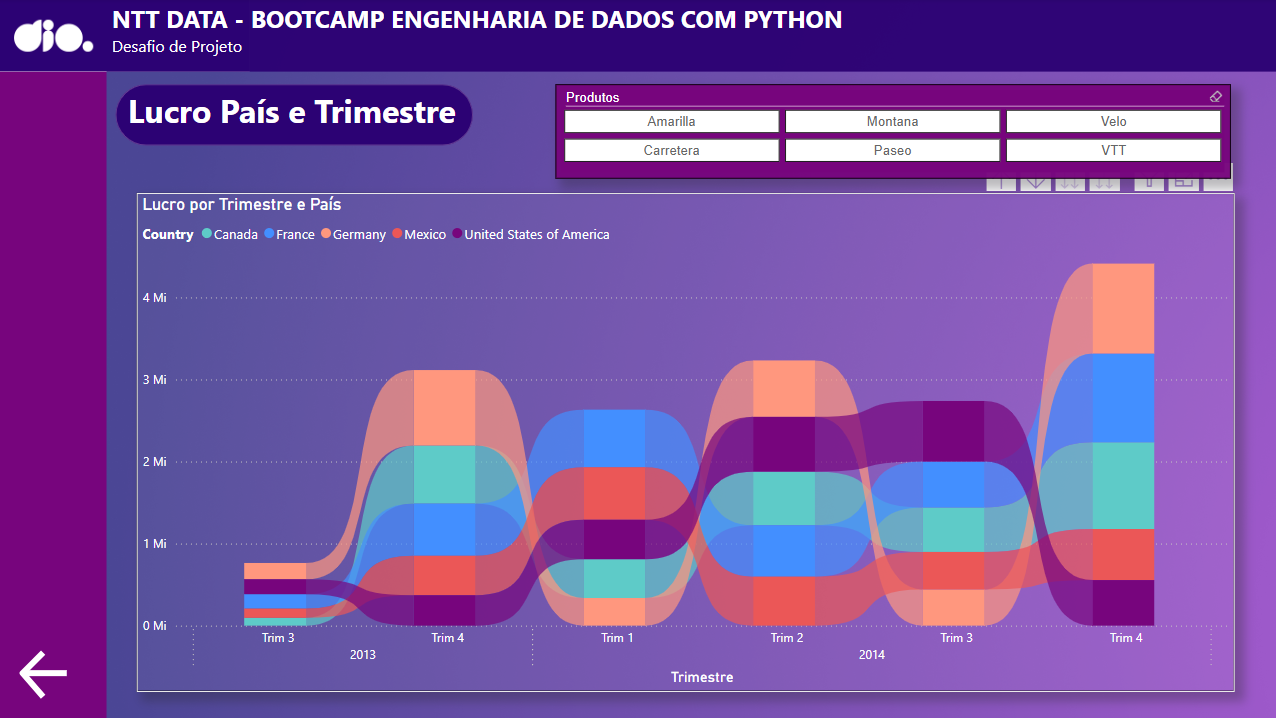

The dashboard page shown, as its layout file describes it:
{"tool":"powerbi","page":{"name":"Página 3","canvas":[1280,720],"ordinal":2},"visuals":[{"type":"shape","box":[0,0,108.8,720.2],"z":0},{"type":"shape","box":[0,0,251.6,73.7],"z":1000},{"type":"image","box":[11,2.4,89.3,70.9],"z":2000},{"type":"shape","title":"FORMA Lucro Detalhado","box":[118.1,86,357.4,61.2],"z":2500,"group":"g1"},{"type":"textbox","box":[108.8,0,1171.2,73.8],"z":3000},{"type":"textbox","box":[125.5,86,406.6,64.1],"z":3000,"group":"g1"},{"type":"actionButton","title":"Seta","box":[18.1,647,82.1,58.4],"z":4000},{"type":"group","id":"g1","title":"Grupo 1","box":[118.1,86,413.9,64.1],"z":5000},{"type":"ribbonChart","title":"Lucro por Trimestre e País","fields":{"Category":["financials.Date.Variation.Hierarquia de datas.Ano","financials.Date.Variation.Hierarquia de datas.Trimestre"],"Y":["Sum(financials.Profit)"],"Series":["financials.Country"]},"box":[138.5,195.3,1097.5,498.5],"z":6000},{"type":"ChicletSlicer1448559807354","fields":{"Category":["financials.Product"]},"box":[556.8,86,674.8,94.7],"z":6001}]}

Visuals, with their boxes on the page's 1280x720 design canvas (x1, y1, x2, y2). These are canvas units, not pixel positions in the 1276x718 screenshot, which may show the page scaled, cropped or inside an application window:
shape: 0, 0, 109, 720
shape: 0, 0, 252, 74
image: 11, 2, 100, 73
"FORMA Lucro Detalhado" shape: 118, 86, 476, 147
textbox: 109, 0, 1280, 74
textbox: 126, 86, 532, 150
"Seta" actionButton: 18, 647, 100, 705
"Grupo 1" group: 118, 86, 532, 150
"Lucro por Trimestre e País" ribbonChart: 138, 195, 1236, 694
ChicletSlicer1448559807354 - financials.Product: 557, 86, 1232, 181
